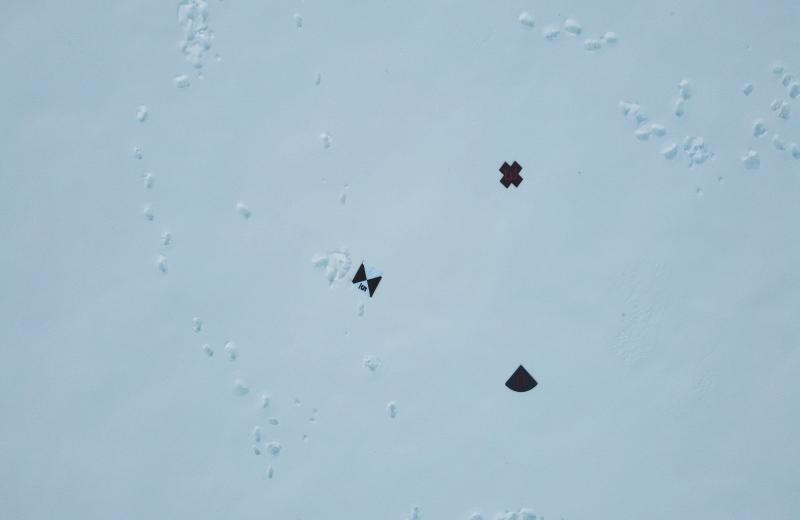Cross: (496, 158, 528, 191)
Quarter Circle: (503, 360, 542, 396)
